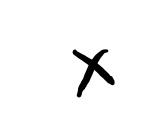mult: (74, 49, 113, 96)
